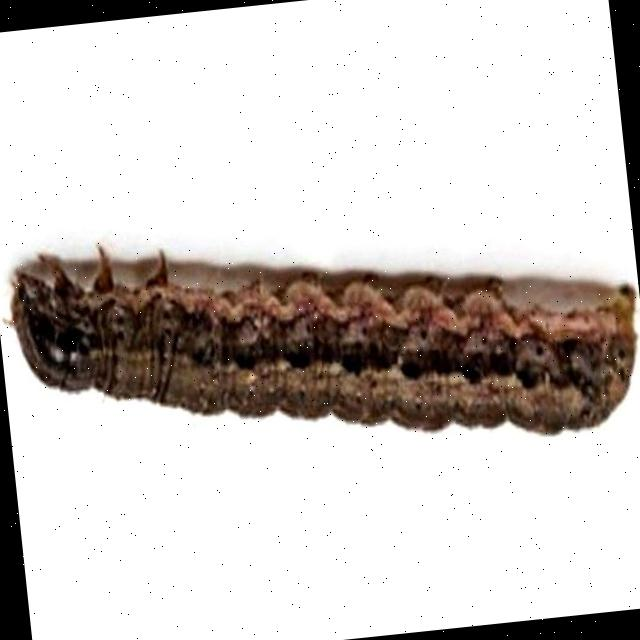worm: (1, 189, 640, 495)
